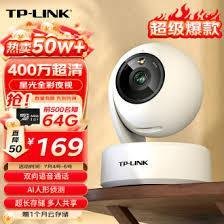maru: (108, 43, 204, 138)
